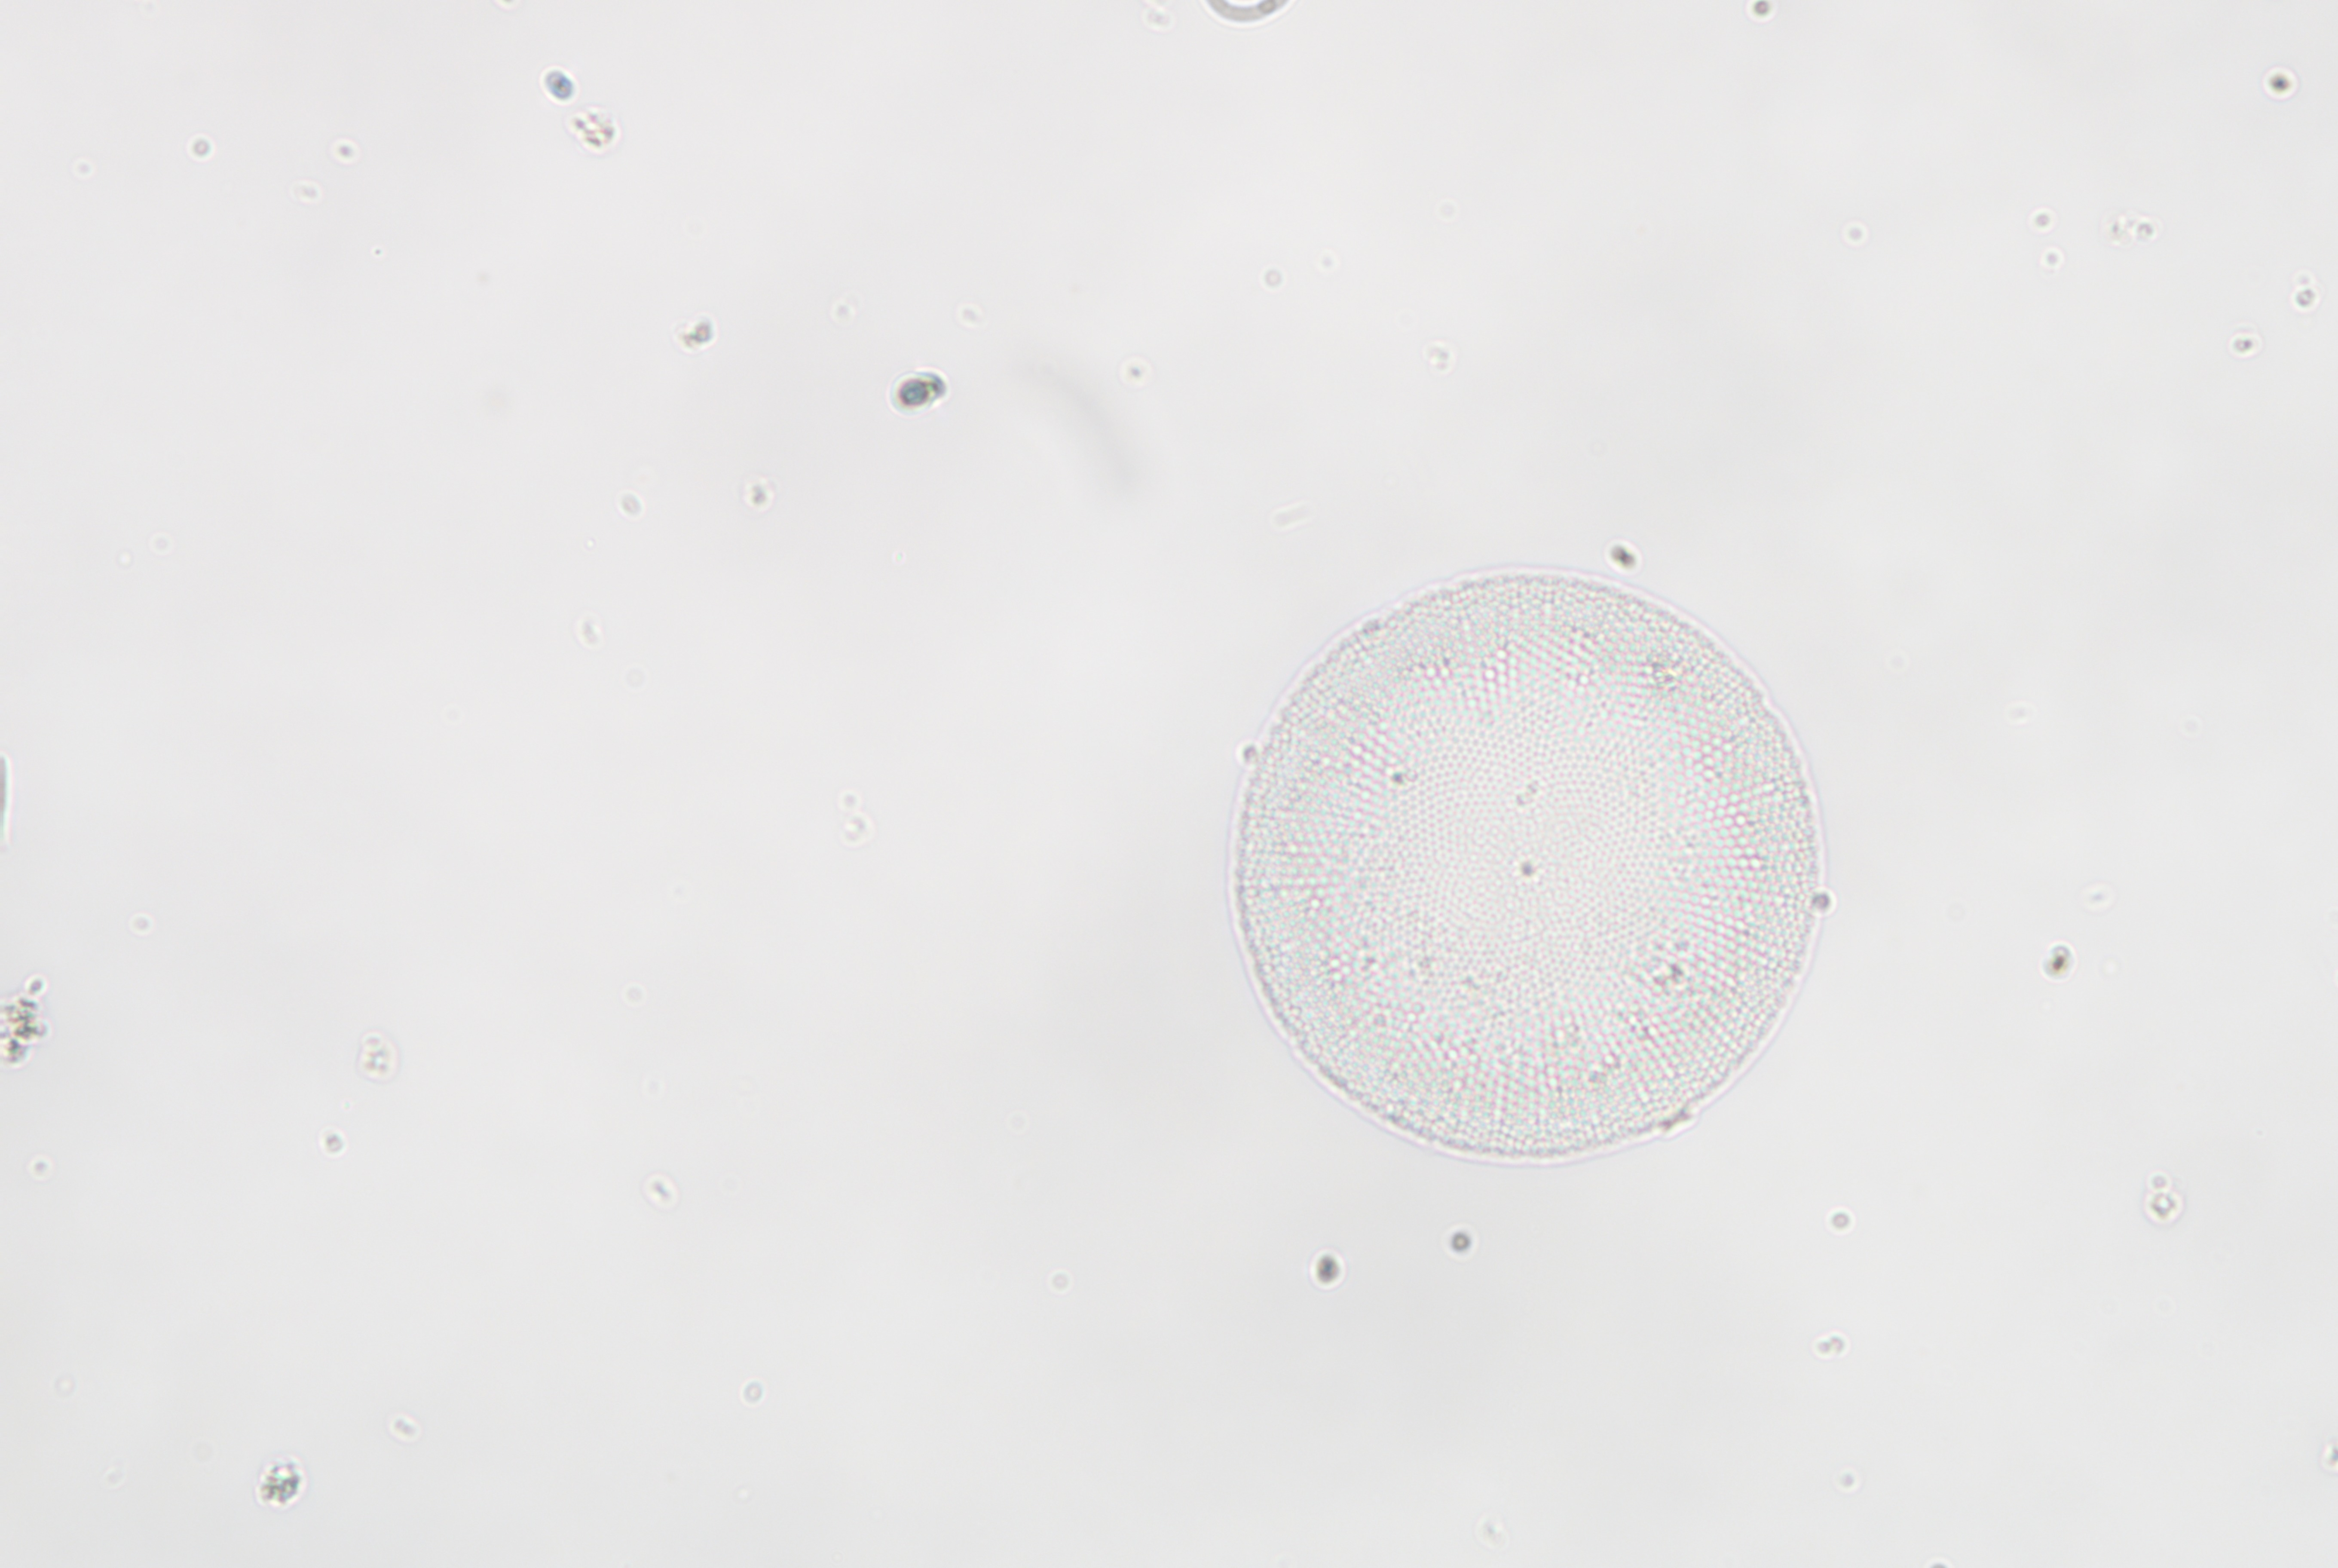coscinodiscus: (1228, 570, 1827, 1167)
